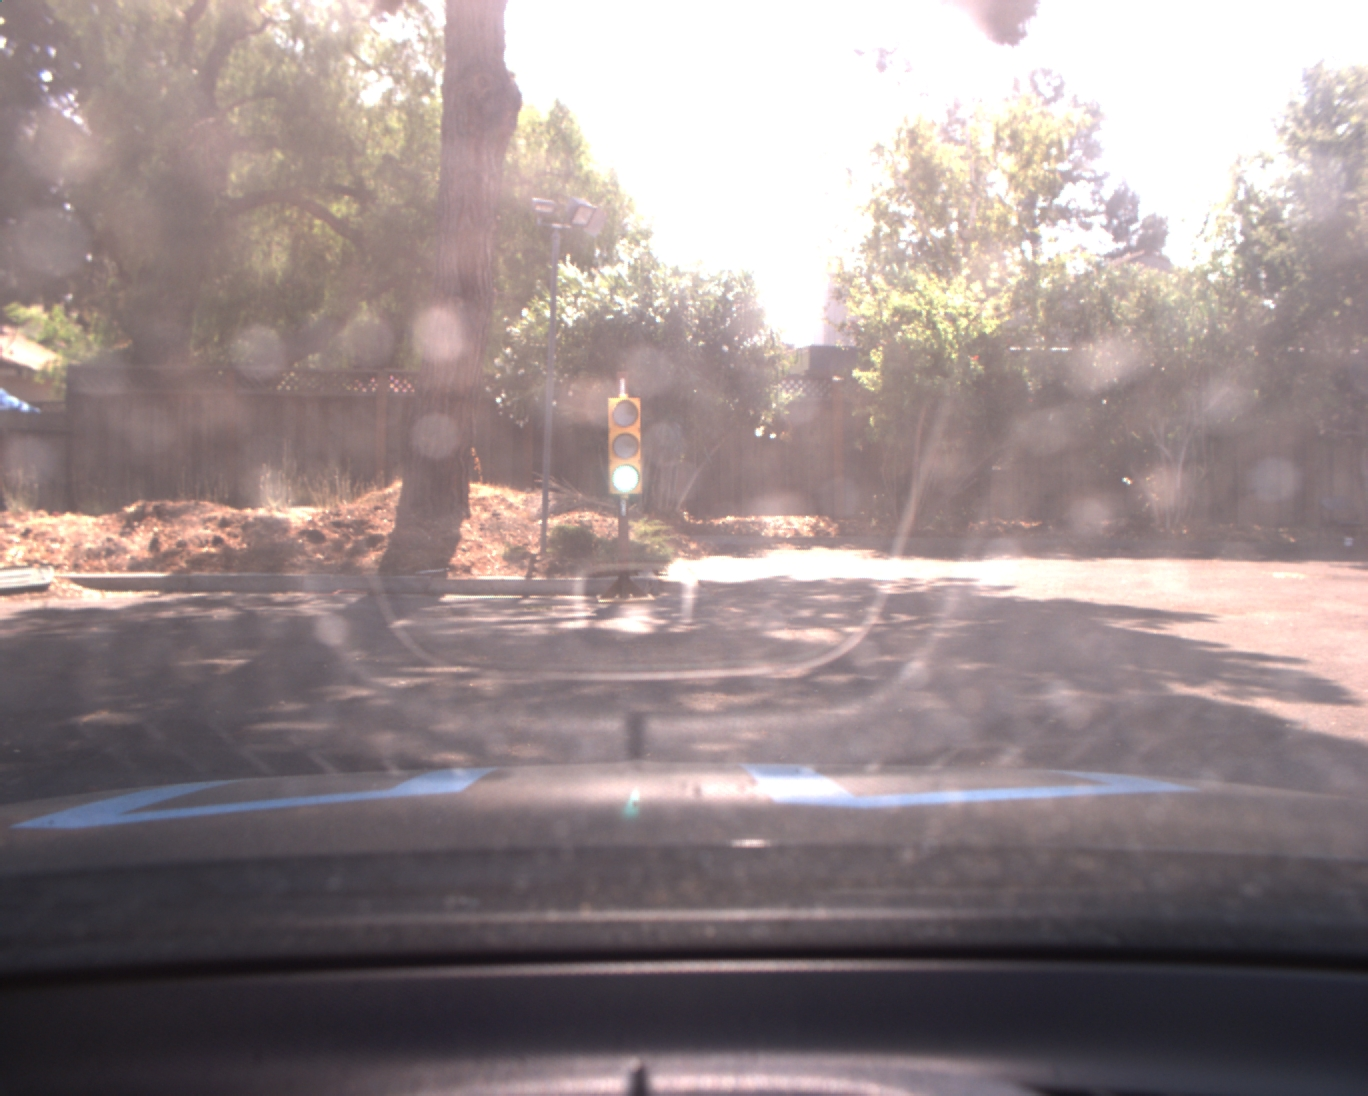green: (607, 398, 647, 498)
